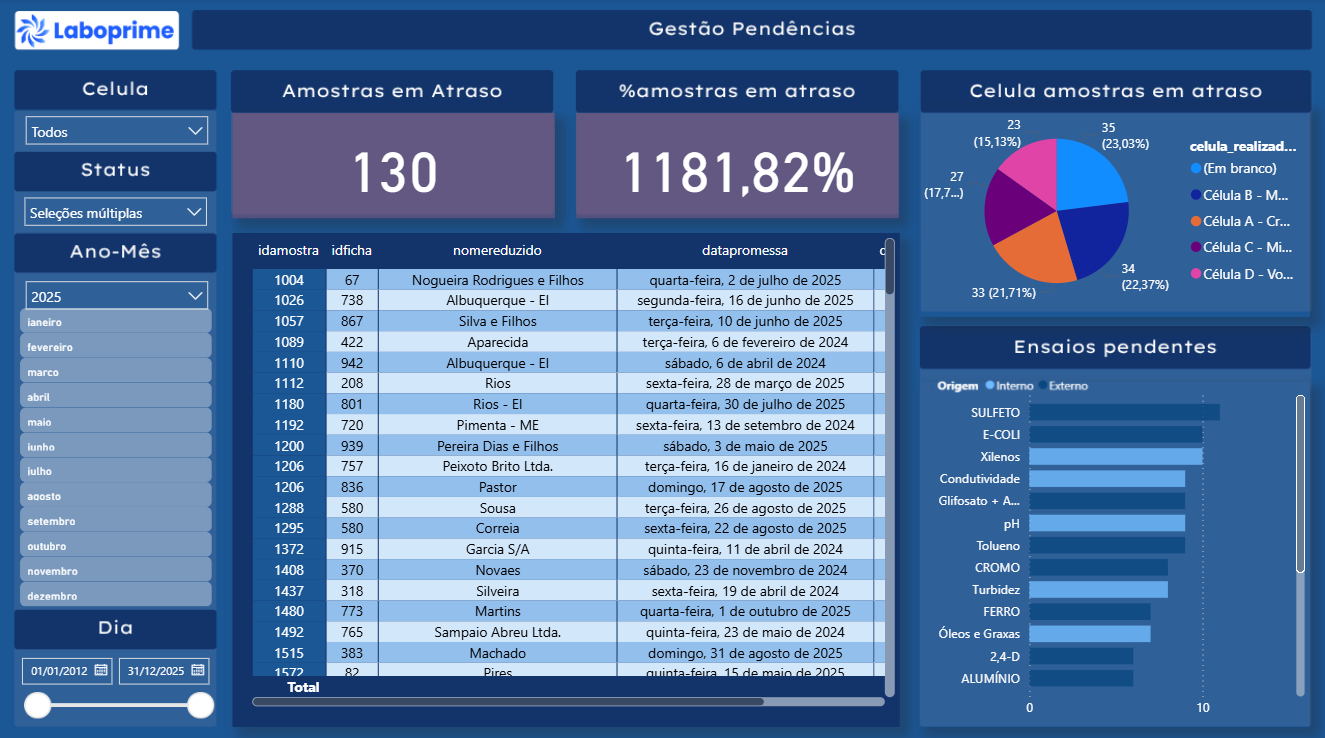

Layout of this report page (visuals, bound fields, positions):
{"tool":"powerbi","page":{"name":"Gestão Pendencias","canvas":[1280,720],"ordinal":5},"visuals":[{"type":"slicer","fields":{"Values":["vw_bi_tecnico_operacional.celula_realizada_nome"]},"box":[14,104,196.6,44],"z":0},{"type":"slicer","fields":{"Values":["vw_bi_tecnico_operacional.status_amostra_macro"]},"box":[13.3,182,196.6,44.6],"z":1000},{"type":"slicer","fields":{"Values":["dCalendario.Ano"]},"box":[13.9,263.5,196.6,44.6],"z":2000},{"type":"slicer","fields":{"Values":["dCalendario.Date"]},"box":[13.7,632.1,196.8,71.6],"z":4000},{"type":"card","fields":{"Values":["_Medidas.Qtd Total de Amostras Atrasadas"]},"box":[224.4,111,311.3,101.3],"z":5000},{"type":"card","fields":{"Values":["_Medidas.% Amostras Atrasadas (do Pendente)"]},"box":[556.2,111,311.3,101.3],"z":6000},{"type":"pieChart","fields":{"Category":["vw_bi_tecnico_operacional.celula_realizada_nome"],"Y":["_Medidas.Qtd Total de Amostras Atrasadas"]},"box":[886.7,103.8,377.6,203.9],"z":7000},{"type":"clusteredBarChart","fields":{"Category":["vw_bi_tecnico_operacional.nome_ensaio"],"Y":["_Medidas.Qtd Ensaios em Amostras Atrasadas"]},"box":[886.7,370.4,377.6,333],"z":8000},{"type":"tableEx","fields":{"Values":["vw_bi_tecnico_operacional.idamostra","vw_bi_tecnico_operacional.idficha","vw_bi_tecnico_operacional.nomereduzido","vw_bi_tecnico_operacional.datapromessa","vw_bi_tecnico_operacional.dias_em_atraso","_Medidas.Qtd Ensaios Pendentes (por Amostra)"]},"box":[224.6,226.7,643.9,477],"z":9000},{"type":"advancedSlicerVisual","fields":{"Values":["dCalendario.Mes"]},"box":[14.5,294.4,195,300],"z":9001}]}

Visuals, with their boxes in screenshot pixels (x1, y1, x2, y2), scaled from the page's 1280x720 canvas onto the 1325x738 screenshot:
slicer - vw_bi_tecnico_operacional.celula_realizada_nome: detection(14, 107, 218, 152)
slicer - vw_bi_tecnico_operacional.status_amostra_macro: detection(14, 187, 217, 232)
slicer - dCalendario.Ano: detection(14, 270, 218, 316)
slicer - dCalendario.Date: detection(14, 648, 218, 721)
card - _Medidas.Qtd Total de Amostras Atrasadas: detection(232, 114, 555, 218)
card - _Medidas.% Amostras Atrasadas (do Pendente): detection(576, 114, 898, 218)
pieChart - vw_bi_tecnico_operacional.celula_realizada_nome x _Medidas.Qtd Total de Amostras Atrasadas: detection(918, 106, 1309, 315)
clusteredBarChart - vw_bi_tecnico_operacional.nome_ensaio x _Medidas.Qtd Ensaios em Amostras Atrasadas: detection(918, 380, 1309, 721)
tableEx - vw_bi_tecnico_operacional.idamostra x vw_bi_tecnico_operacional.idficha: detection(232, 232, 899, 721)
advancedSlicerVisual - dCalendario.Mes: detection(15, 302, 217, 609)
